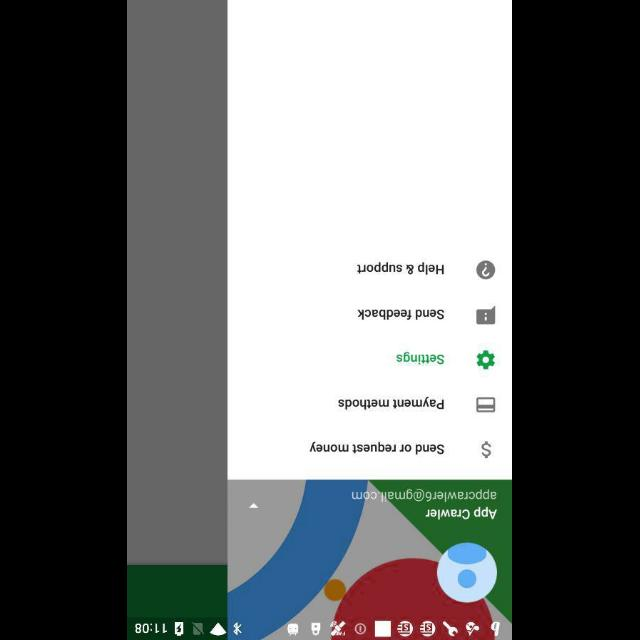icon: (438, 542, 498, 602), (476, 260, 496, 280), (476, 350, 496, 370), (476, 306, 496, 324), (476, 398, 496, 412), (482, 440, 492, 458), (250, 502, 260, 508)
panel: (228, 0, 512, 614)
text: (352, 487, 498, 501), (310, 442, 444, 454), (338, 396, 444, 409), (358, 261, 444, 275), (426, 506, 498, 520), (358, 310, 444, 320), (397, 352, 445, 364)
uppertaskbar: (128, 617, 512, 639)
